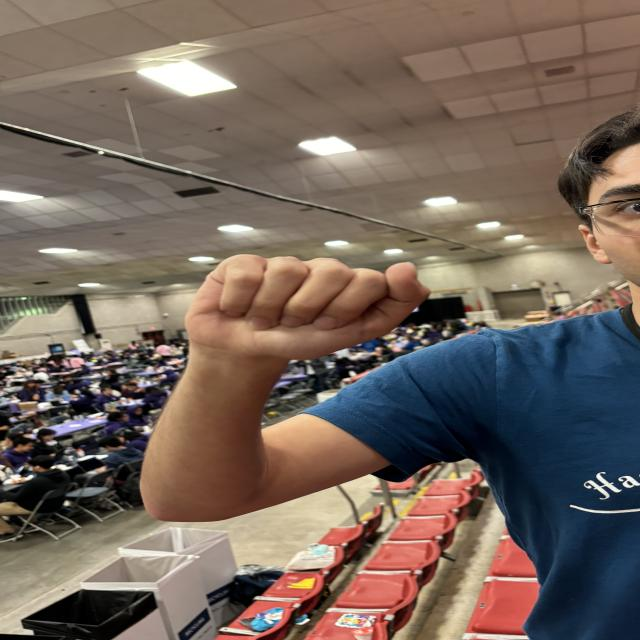A: (174, 244, 435, 360)
